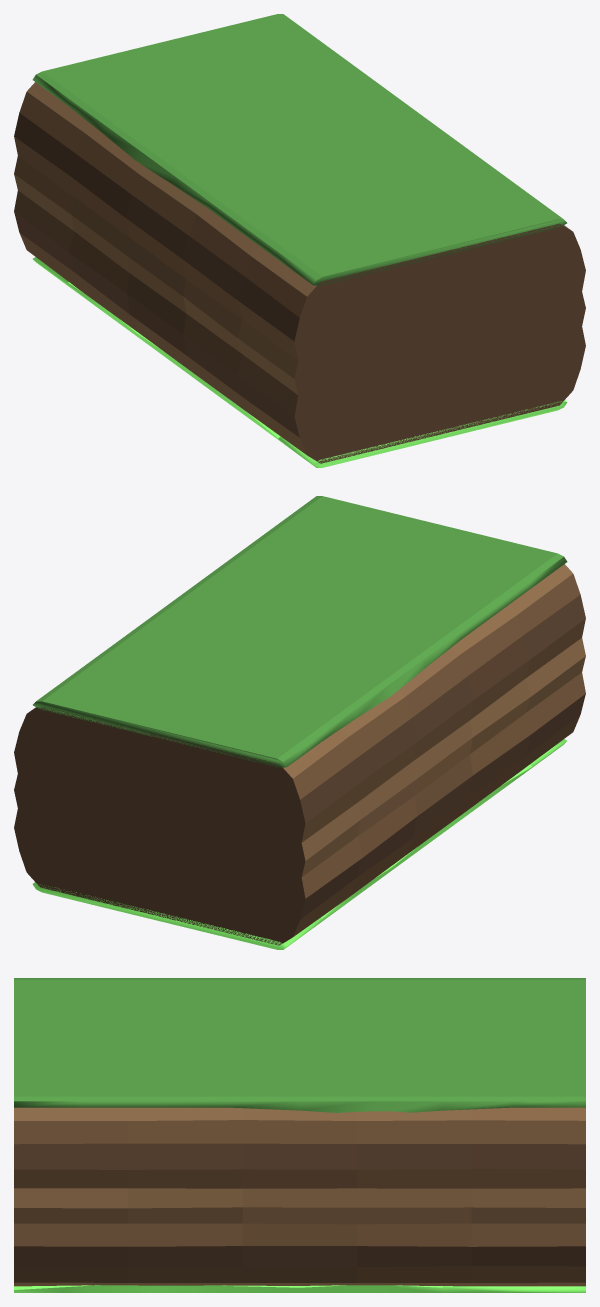
The model's file is bough-slab.glb.
3 views of the same model, one above another, from view 1: azimuth 30°, elevation 25°; view 2: azimuth 150°, elevation 25°; view 3: azimuth 270°, elevation 25° (orthographic).
Visible parts, largest first — view 1: bough-slab; view 2: bough-slab; view 3: bough-slab.
Boxes of the visible parts, x1,y1,x2,y2 form: bough-slab: (14, 14, 585, 467); bough-slab: (14, 496, 585, 949); bough-slab: (14, 978, 585, 1292).
Bounding box in the file's own units: 30.2 × 18.8 × 50.
